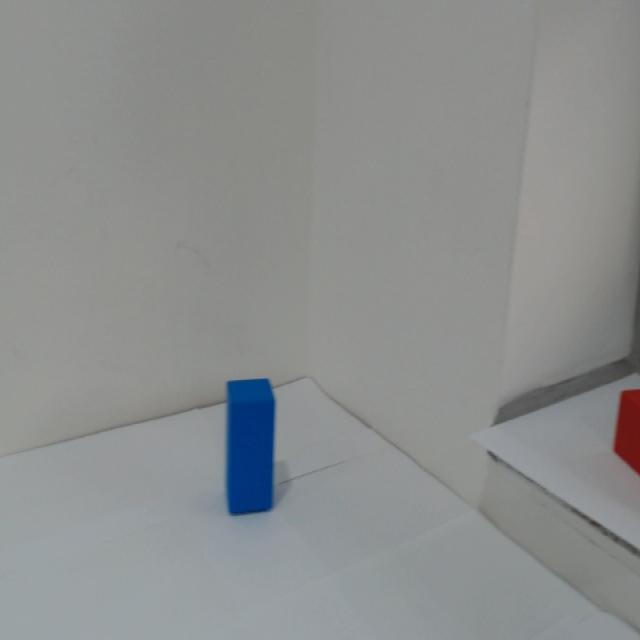cube: (190, 352, 291, 541)
